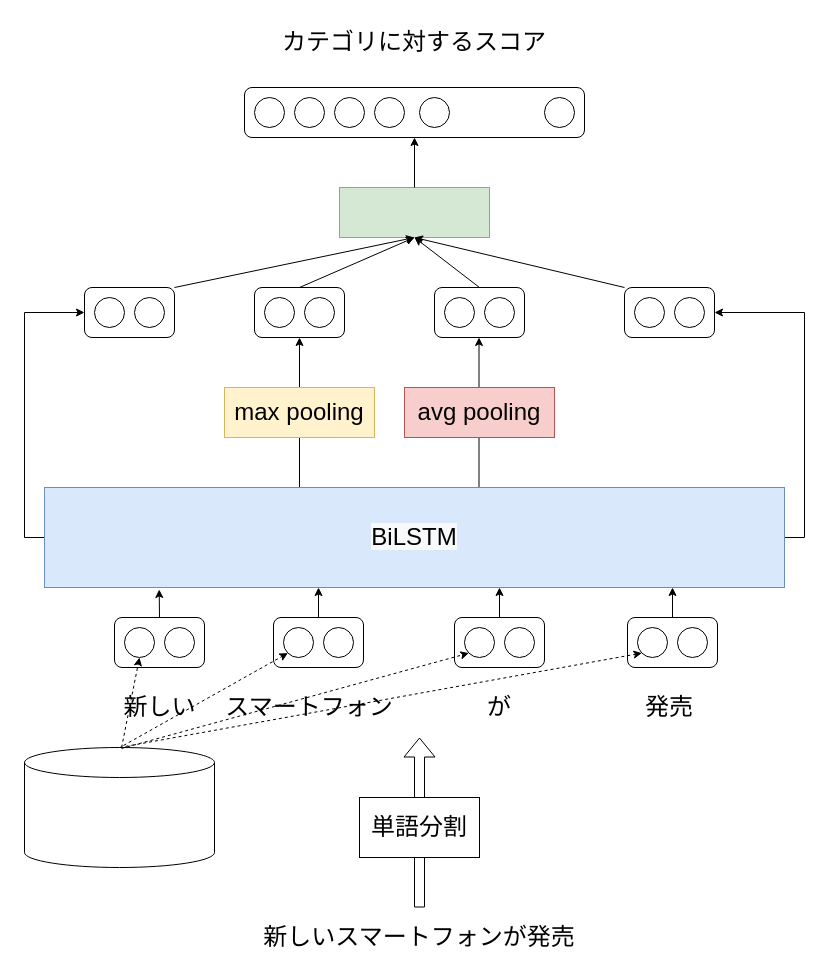
The diagram is 830 pixels wide and 969 high, and some of its shapes have lost their labels. The shapes that lost their labels are listed below. From the top down, each one's centre as x and y in pixels, then its label:
At [414,212]: "Linear".
At [119,807]: "事前学習済み 単語ベクトル".
